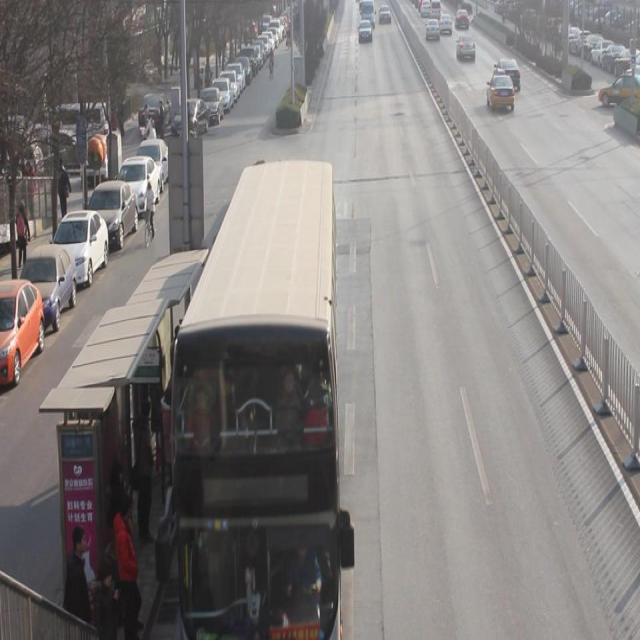car: (598, 69, 640, 110), (486, 70, 516, 114), (495, 58, 522, 91), (456, 35, 477, 65), (357, 20, 373, 43), (426, 20, 441, 44), (378, 1, 392, 25), (440, 11, 453, 36), (455, 8, 469, 31), (421, 1, 431, 19)
truck: (430, 1, 441, 22)
van: (176, 156, 342, 640)
